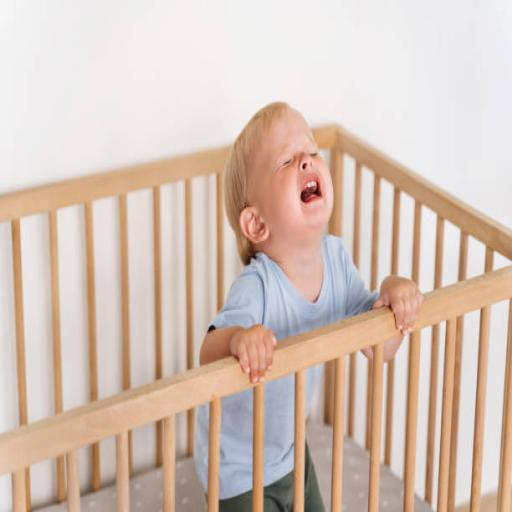baby: (200, 103, 422, 382)
crib: (314, 126, 511, 511)
